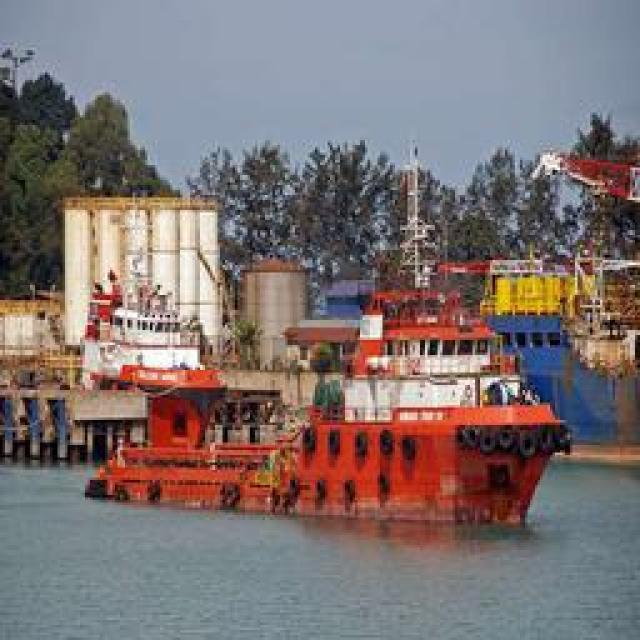ship2: (84, 141, 572, 528), (85, 204, 226, 397)
